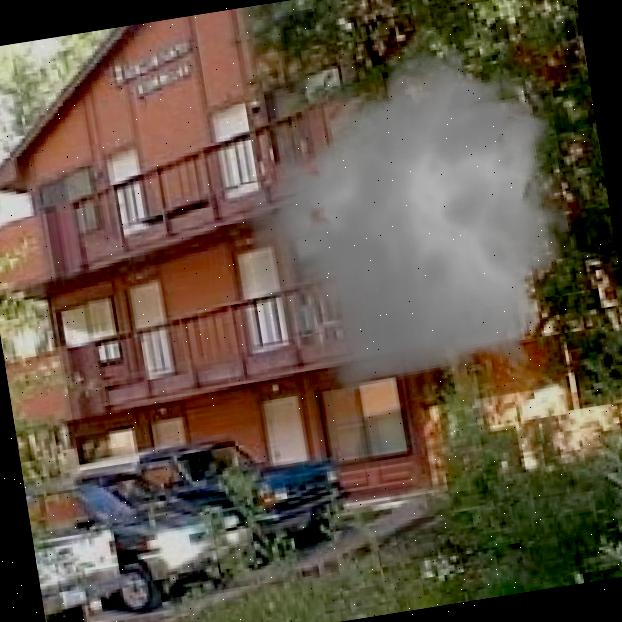smoke: (211, 17, 608, 423)
